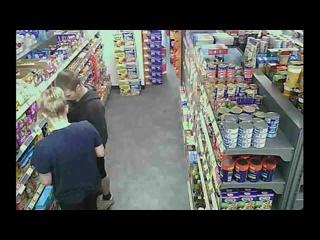shoplifting: (30, 86, 107, 210), (55, 70, 114, 205)
